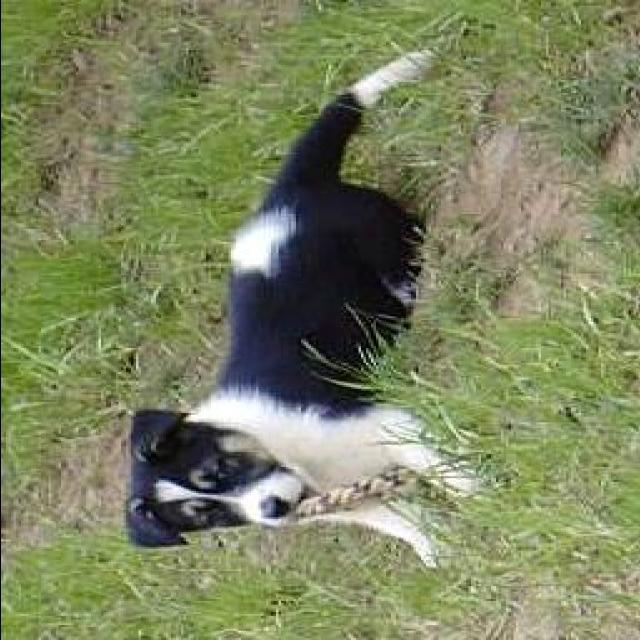dog: (104, 41, 540, 578)
